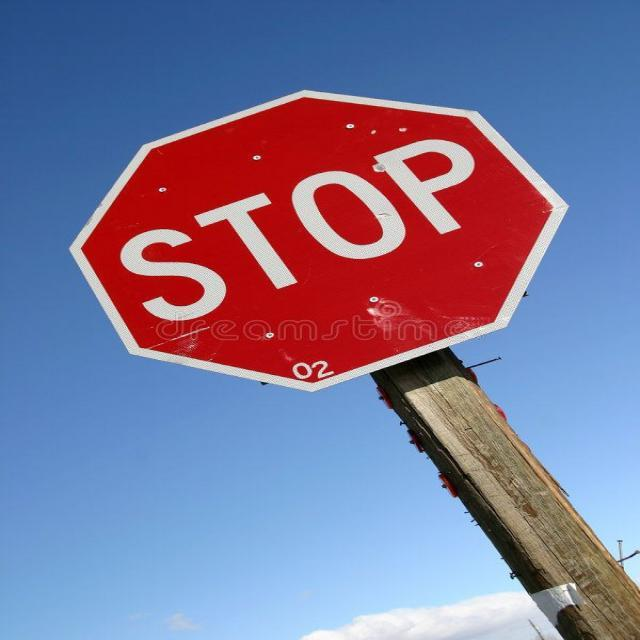stop: (68, 88, 569, 393)
